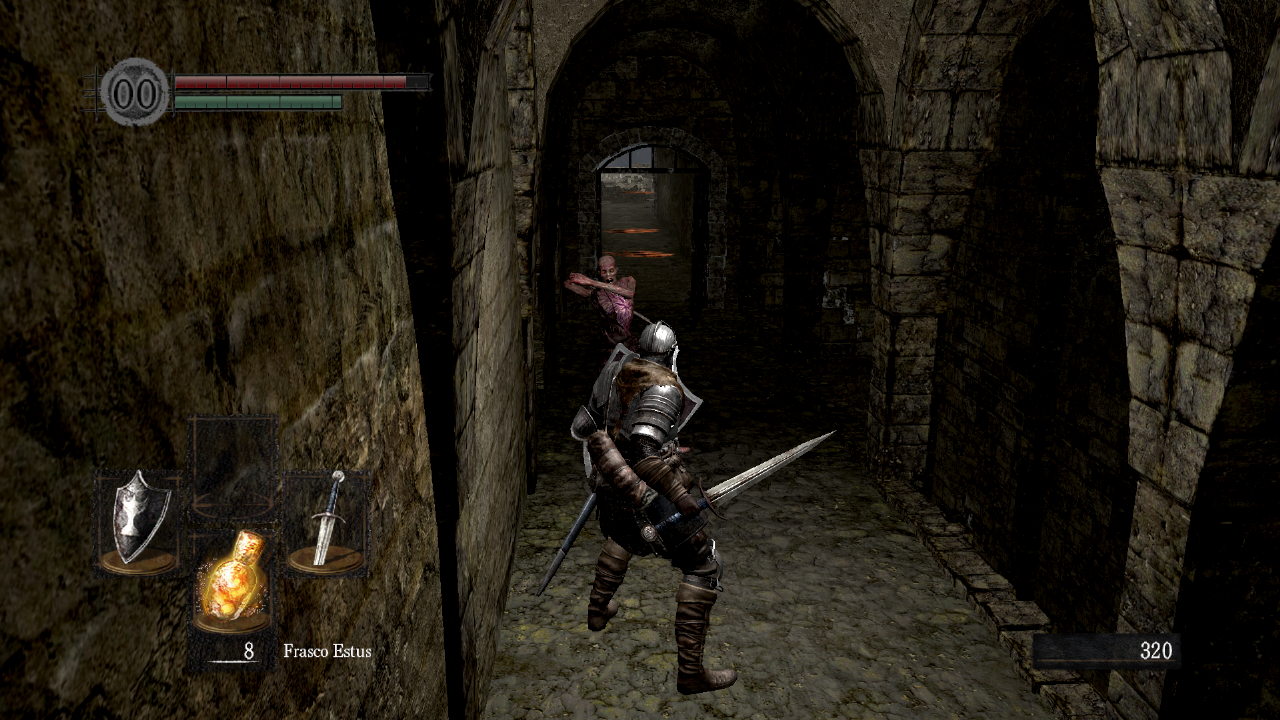hollow: (563, 255, 638, 345)
player: (536, 320, 837, 694)
